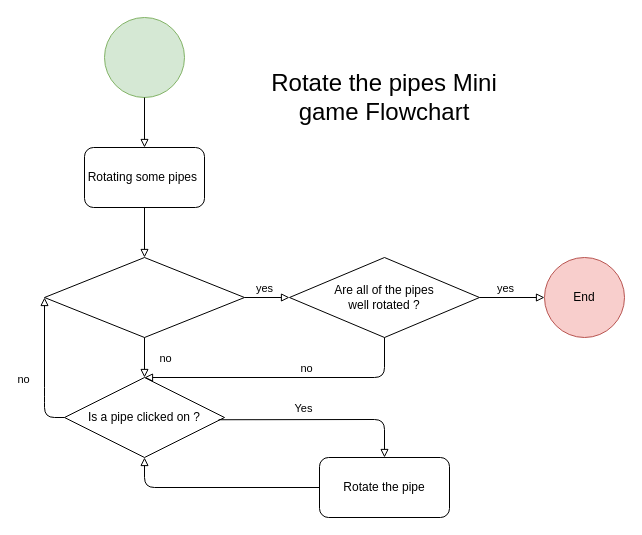
This 642x535 diagram has some shape labels left out. The shapes that lost their labels are listed below. From the top down, each one's centre as x and y in pixels, then its label:
At point 144,57: "Start".
At point 144,297: "Is the test button pressed ?".
